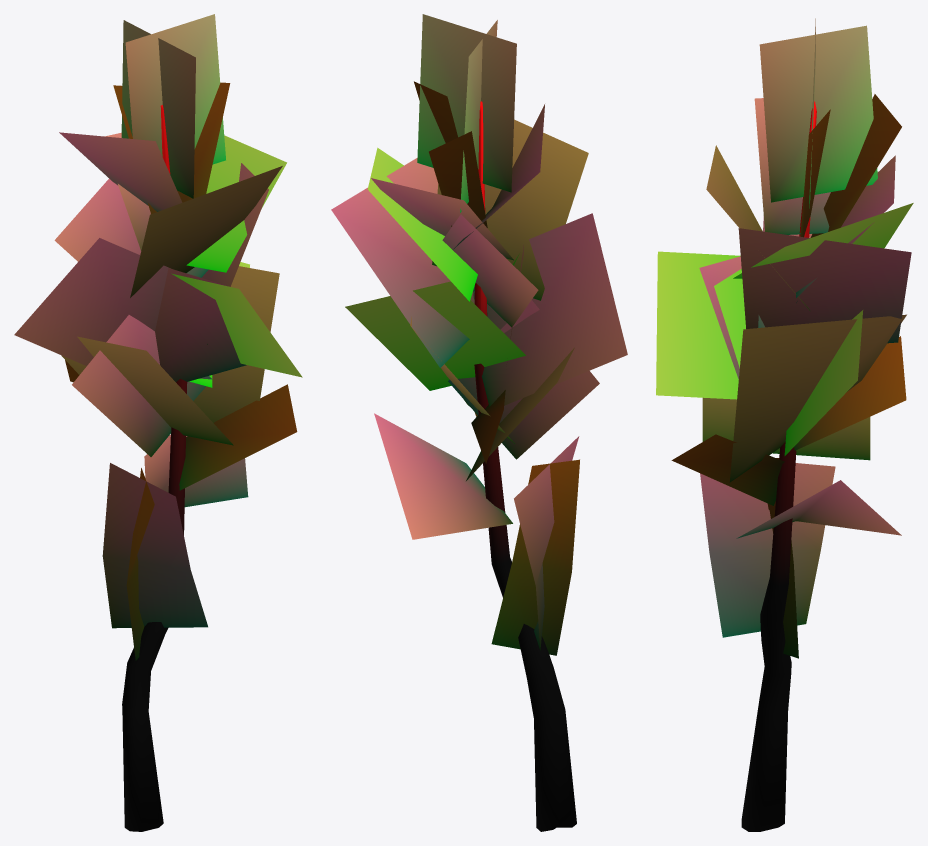
The model's file is swamp_birch_b_256.fbx.
3 views of the same model, side by side, from view 1: azimuth 30°, elevation 25°; view 2: azimuth 150°, elevation 25°; view 3: azimuth 270°, elevation 25° (orthographic). The views are drawn at different scales.
Visible parts, largest first — view 1: birchleavesb256, birchtreeb256; view 2: birchleavesb256, birchtreeb256; view 3: birchleavesb256, birchtreeb256.
Part boxes in pixels (x1=…): birchleavesb256: x1=14, y1=14, x2=302, y2=660; birchtreeb256: x1=122, y1=105, x2=187, y2=831; birchleavesb256: x1=331, y1=14, x2=627, y2=655; birchtreeb256: x1=474, y1=101, x2=576, y2=831; birchleavesb256: x1=656, y1=18, x2=913, y2=658; birchtreeb256: x1=741, y1=101, x2=816, y2=831.
Size of what is drawn, in the model's own units: 4.37 by 12.49 by 3.55.
